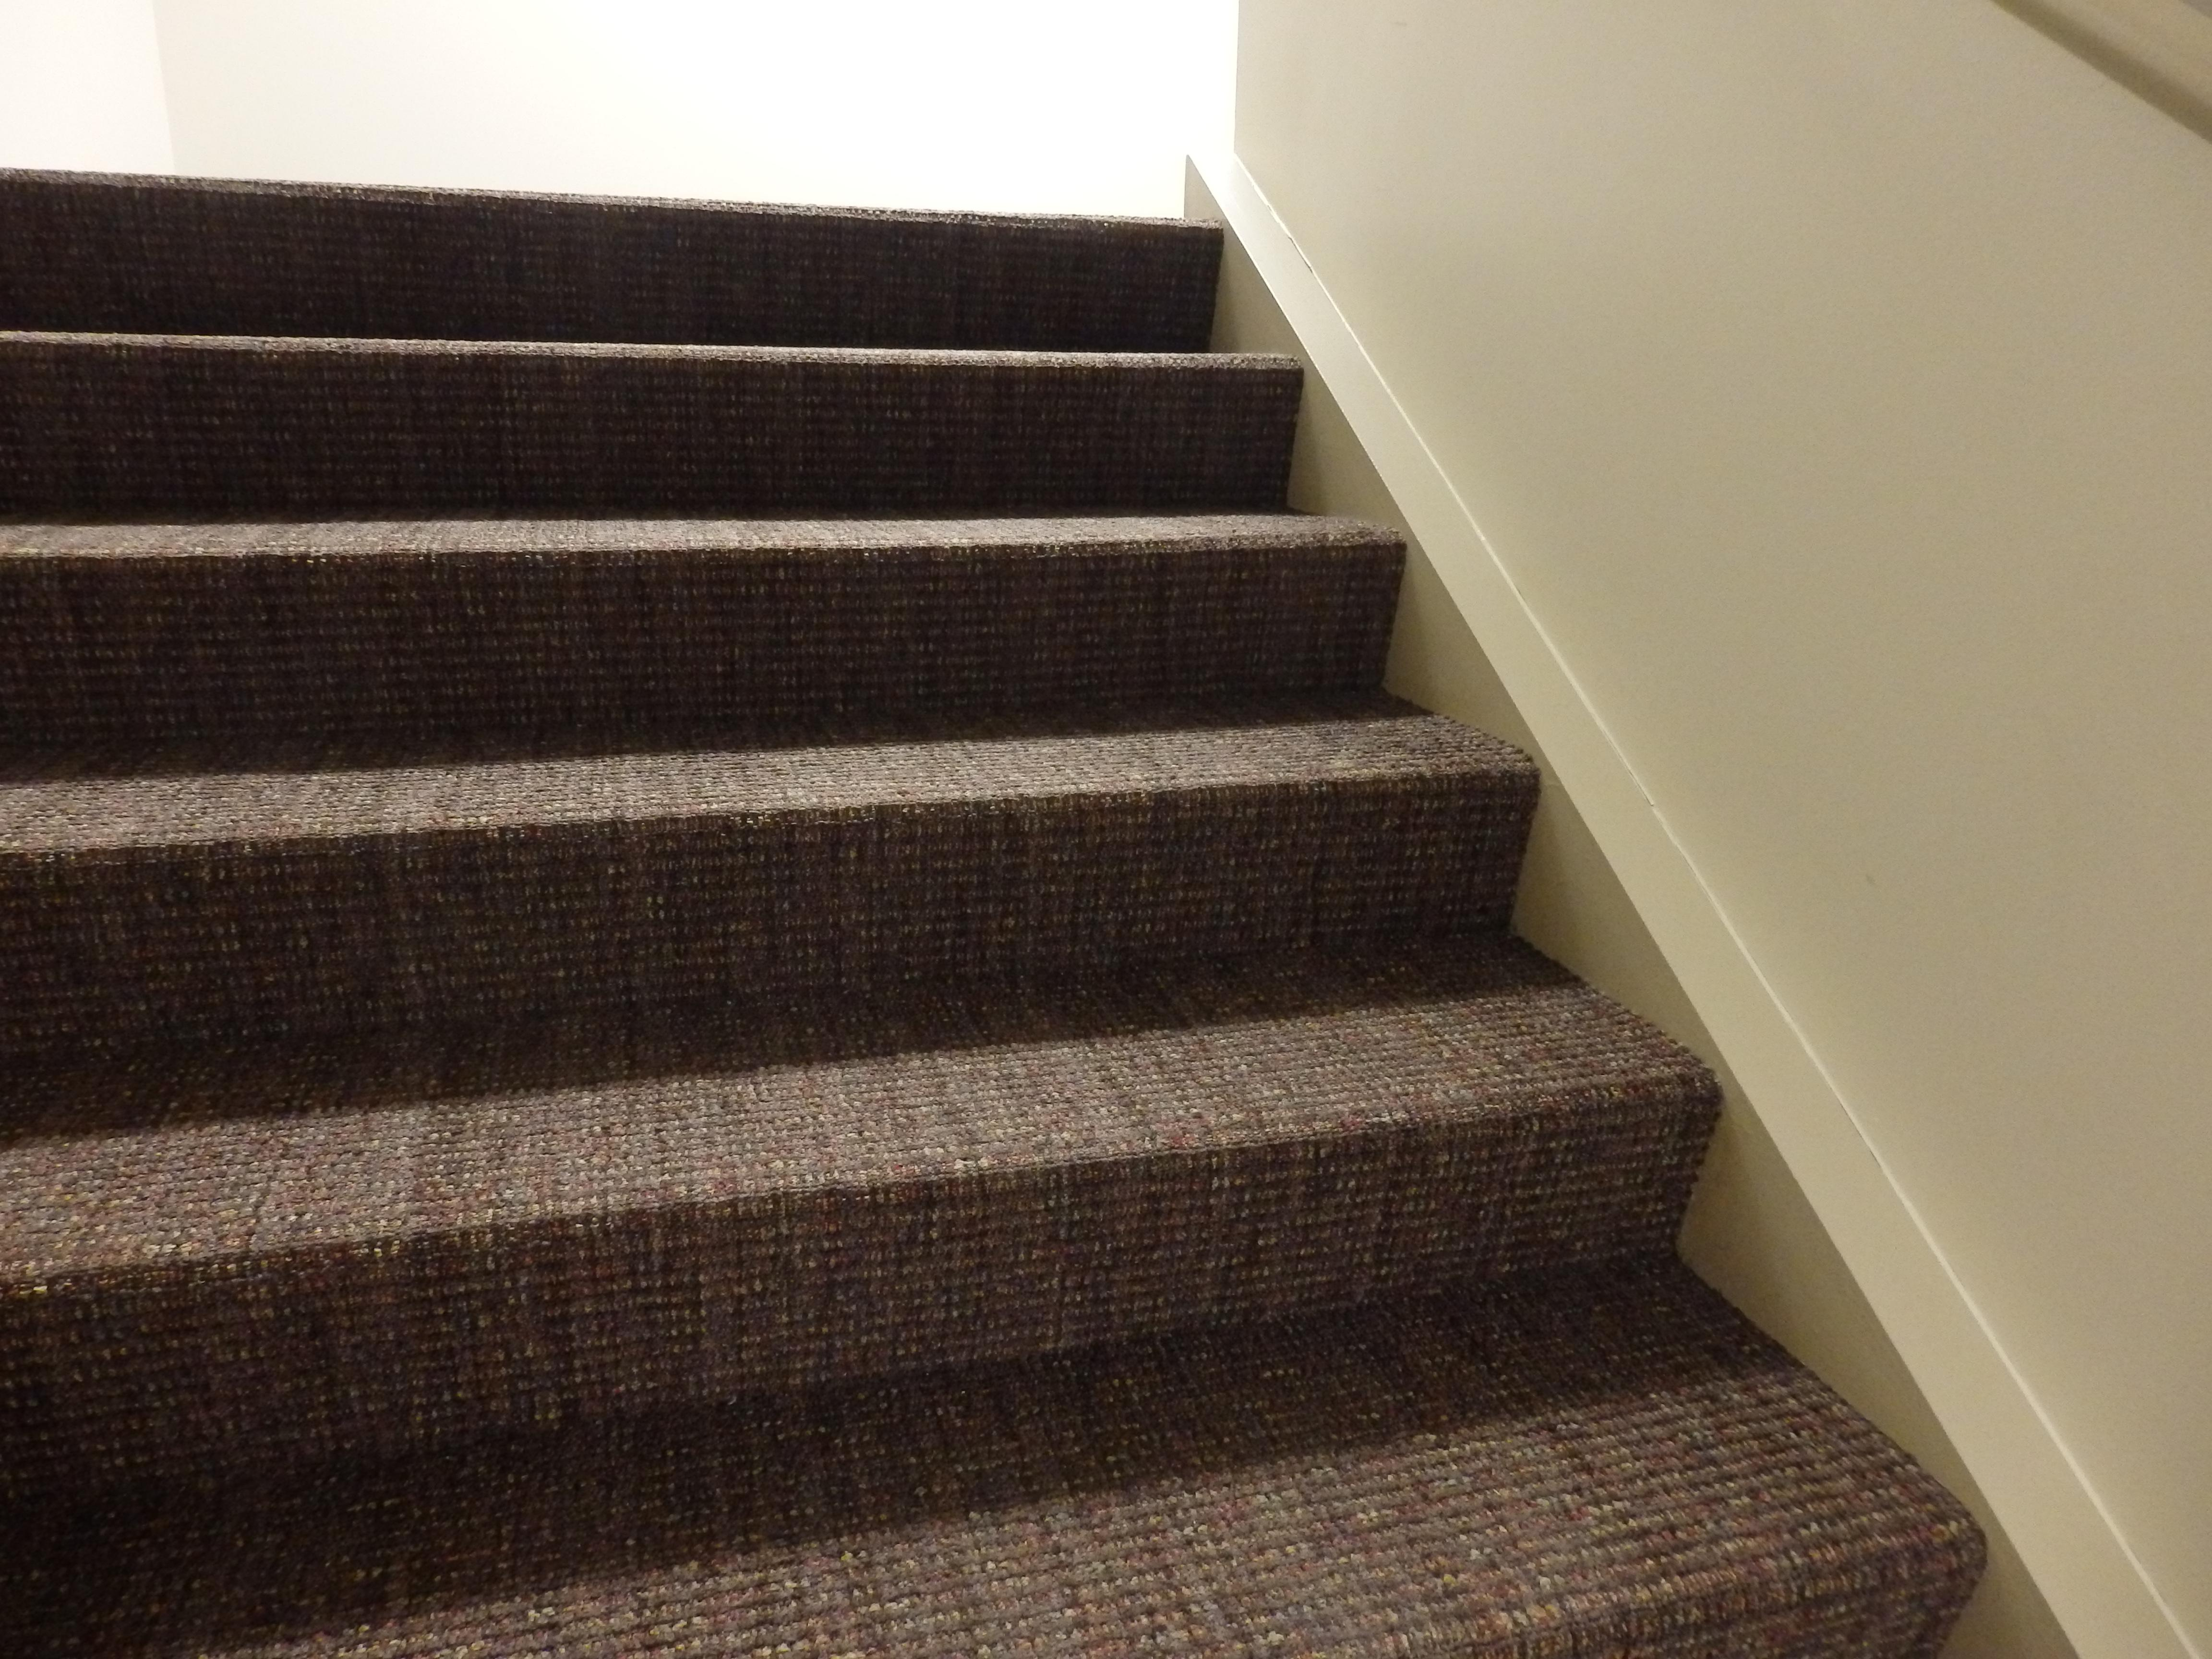stairs_up: (23, 152, 1740, 1649)
